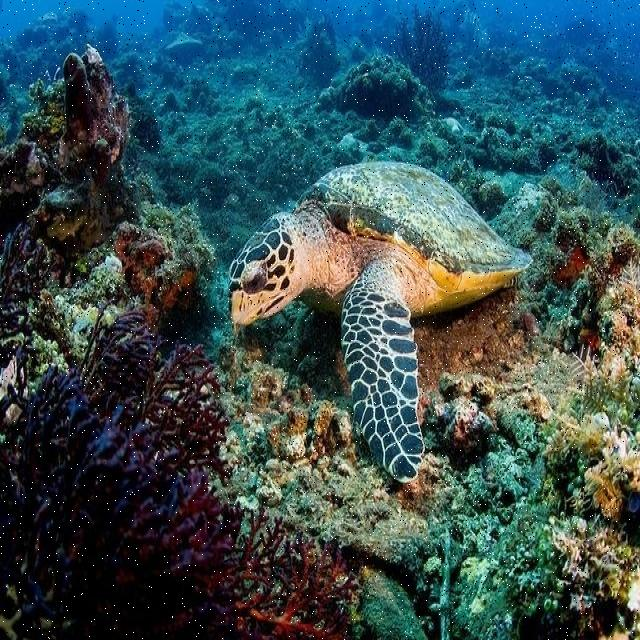fish: (227, 162, 533, 483)
reefs: (0, 295, 360, 639)
